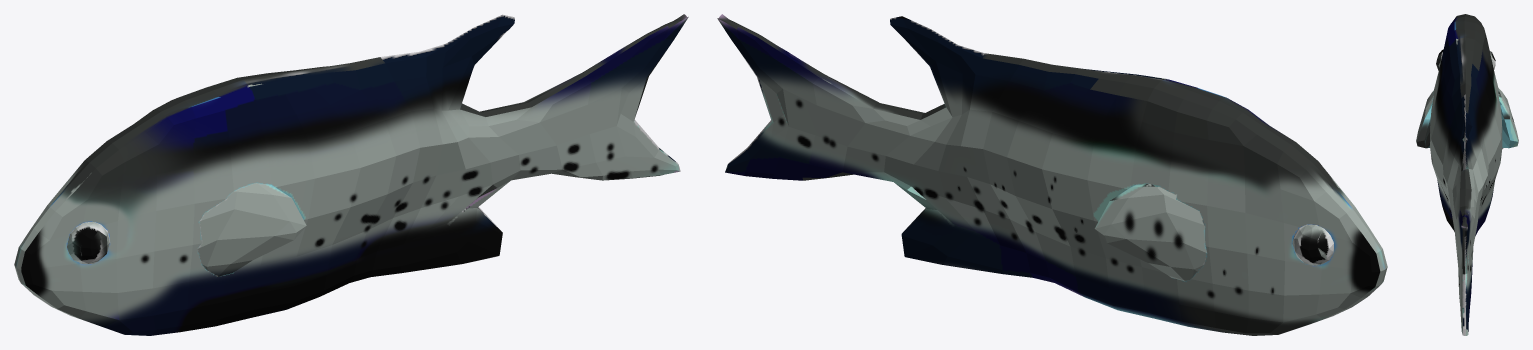
File: Tuna.fbx
3 views of the same model, side by side, from view 1: azimuth 30°, elevation 25°; view 2: azimuth 150°, elevation 25°; view 3: azimuth 270°, elevation 25° (orthographic). The views are drawn at different scales.
Parts seen in each view (by area): view 1: Plane.003; view 2: Plane.003; view 3: Plane.003.
Boxes of the visible parts, box(x1,y1,x2,y2) form: Plane.003: box(14, 14, 688, 335); Plane.003: box(717, 14, 1387, 335); Plane.003: box(1416, 14, 1518, 335).
Size of the model in its own units: 325 by 112 by 59.48.
